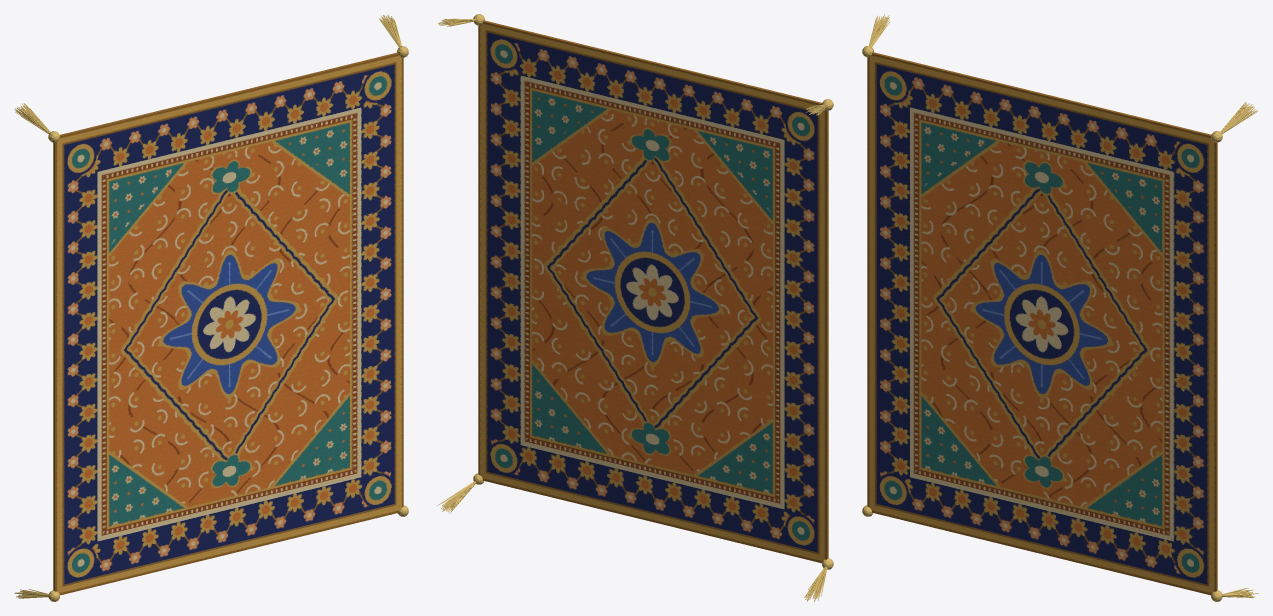
Rendered from carpet.glb.
3 views of the same model, side by side, from view 1: azimuth 30°, elevation 25°; view 2: azimuth 150°, elevation 25°; view 3: azimuth 330°, elevation 25° (orthographic).
Visible parts, largest first — view 1: CARPET_0, TASSELS_0; view 2: CARPET_0, TASSELS_0; view 3: CARPET_0, TASSELS_0.
Boxes of the visible parts, bbox=[...] form: CARPET_0: bbox=[53, 52, 403, 595]; TASSELS_0: bbox=[14, 14, 408, 601]; CARPET_0: bbox=[478, 20, 828, 563]; TASSELS_0: bbox=[437, 14, 833, 601]; CARPET_0: bbox=[867, 52, 1217, 595]; TASSELS_0: bbox=[862, 14, 1258, 601].
Bounding box in the file's own units: 8.72 × 10.81 × 1.19.
2 materials, 1 textured.
